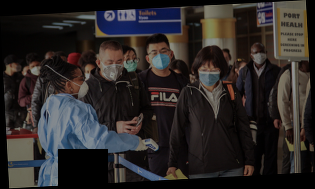with_mask: (149, 46, 172, 72), (100, 57, 124, 81), (197, 64, 221, 88), (71, 74, 89, 98), (123, 53, 139, 73), (252, 49, 268, 65), (29, 63, 42, 76)
